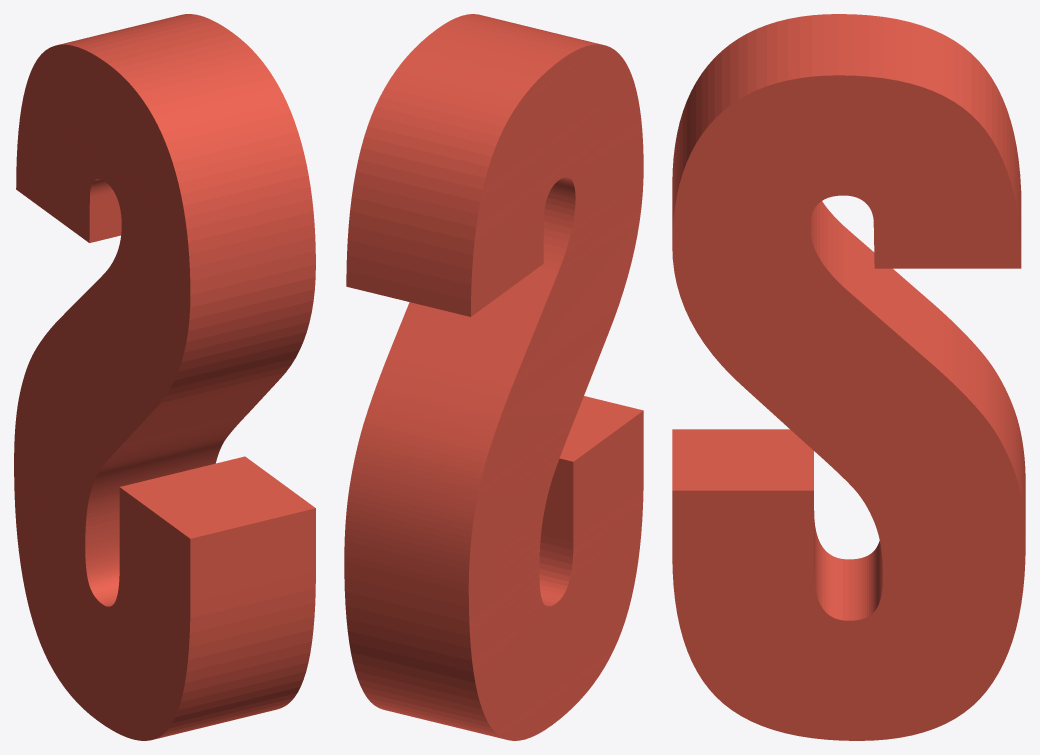
The picture shows the model from 3 angles, left to right: view 1: azimuth 30°, elevation 25°; view 2: azimuth 150°, elevation 25°; view 3: azimuth 270°, elevation 25°; orthographic projection.
Parts seen in each view (by area): view 1: S; view 2: S; view 3: S.
Part boxes in pixels (x1,y1,x2,y2): S: (14,14,315,740); S: (344,14,643,740); S: (672,14,1025,740).
Bounding box in the file's own units: 0.1 × 0.5058 × 0.2434.
